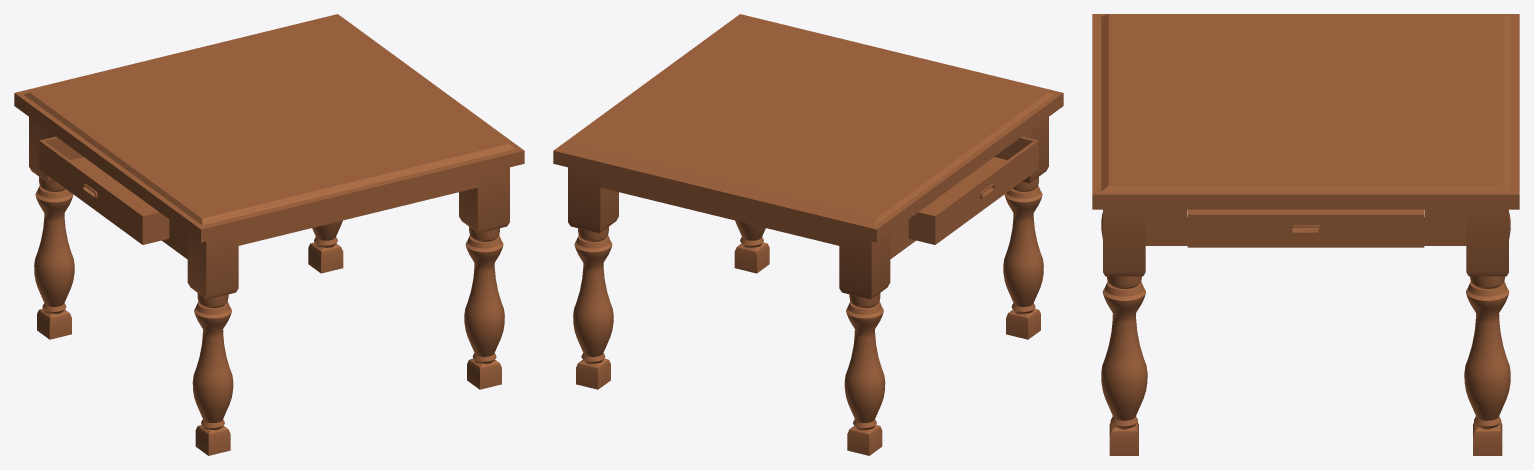
File: Table_Square_01.glb
3 renders of one model, left to right at view 1: azimuth 30°, elevation 25°; view 2: azimuth 150°, elevation 25°; view 3: azimuth 270°, elevation 25°, orthographic. The views are drawn at different scales.
Visible parts, largest first — view 1: Mesh_Table_Square_01; view 2: Mesh_Table_Square_01; view 3: Mesh_Table_Square_01.
Part boxes in pixels (x1,y1,x2,y2): Mesh_Table_Square_01: (14, 14, 524, 455); Mesh_Table_Square_01: (553, 14, 1063, 455); Mesh_Table_Square_01: (1092, 14, 1519, 455).
Size of the model in its own units: 1.09 by 0.7072 by 1.
1 material, 1 textured.
